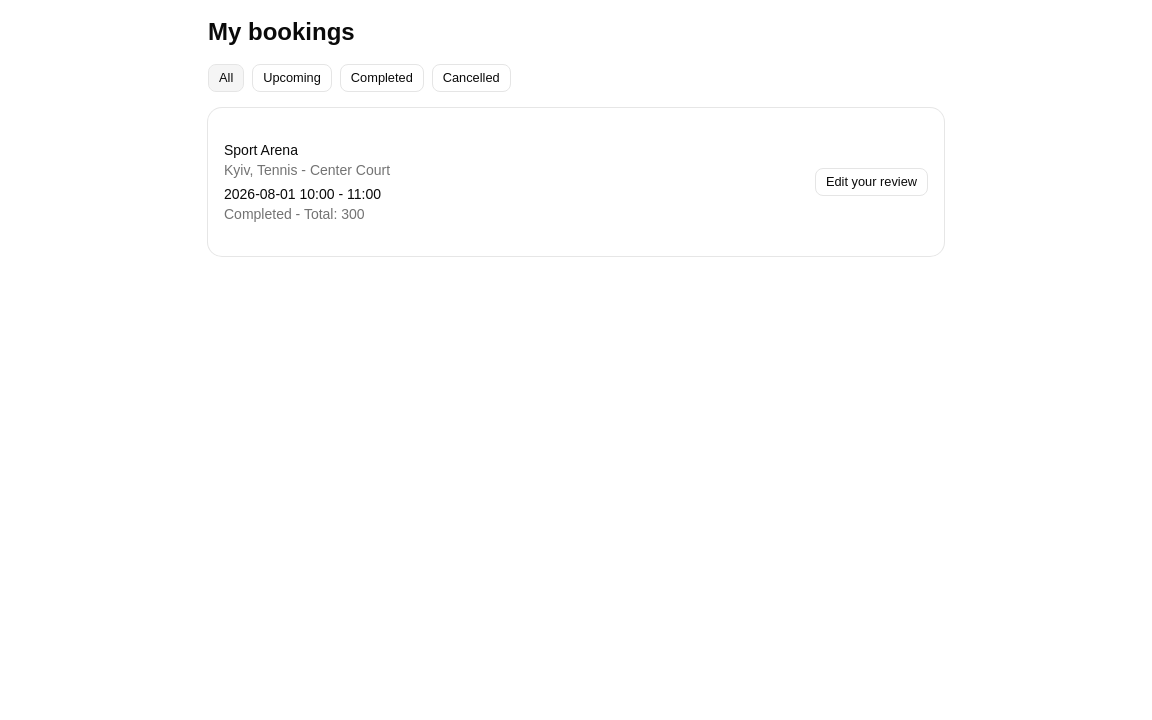
Test case: MyBookingsPage › T005 (007): a review created less than 24h ago still shows the edit form
Expected: the text "Sport Arena" is shown, [224, 142, 298, 158]
What coordinates should you click on to do the following:
click the button "Edit your review"
I would click on:
 (872, 182)
Its box is [815, 168, 928, 196].
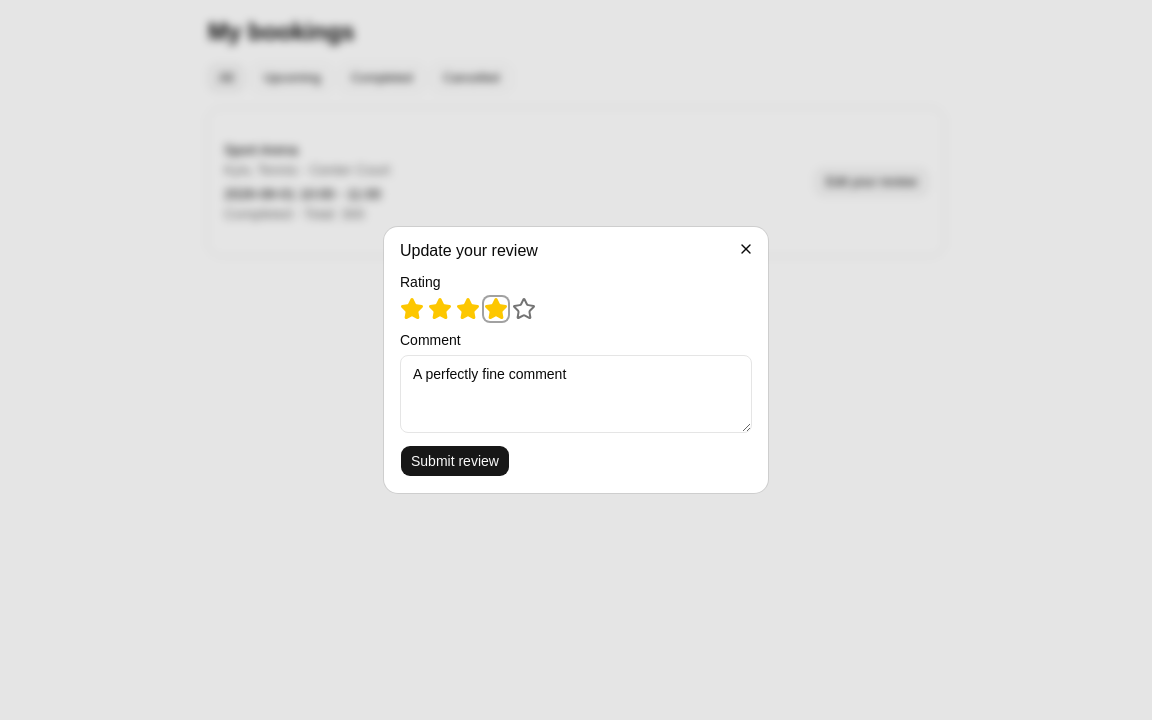
Expected: the button "Submit review" is shown, [400, 445, 510, 477]
